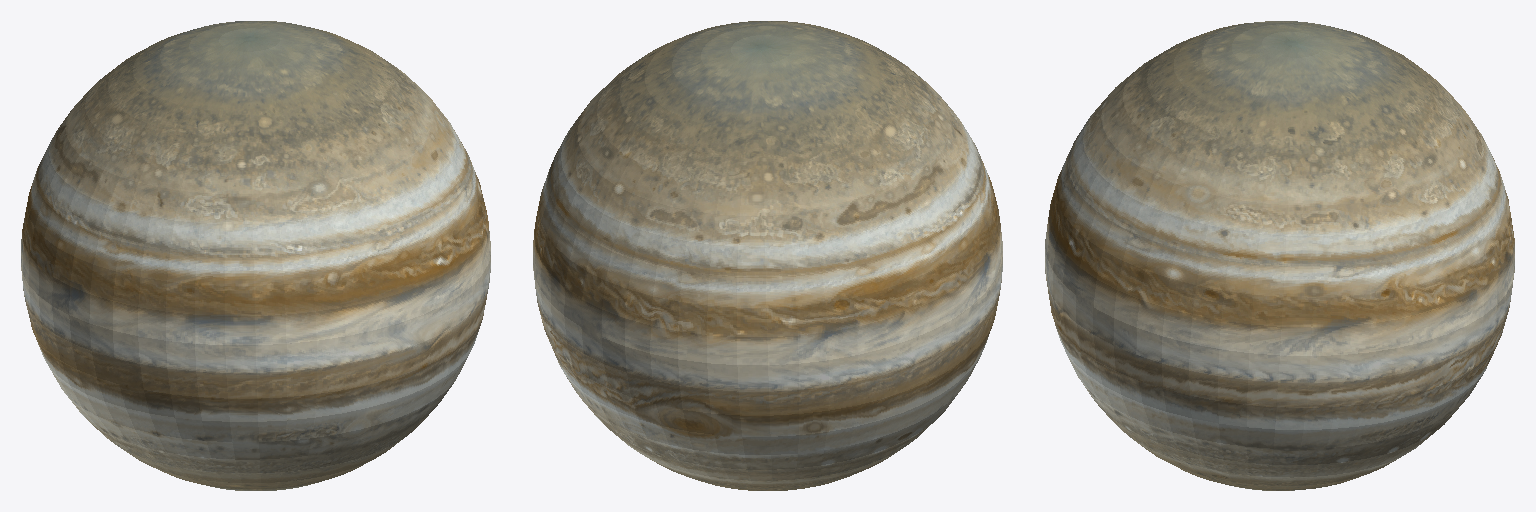
3 renders of one model, left to right at view 1: azimuth 30°, elevation 25°; view 2: azimuth 150°, elevation 25°; view 3: azimuth 270°, elevation 25°, orthographic.
Parts seen in each view (by area): view 1: Jupiter_ID156; view 2: Jupiter_ID156; view 3: Jupiter_ID156.
Boxes of the visible parts, x1=… form: Jupiter_ID156: x1=21, y1=21, x2=490, y2=490; Jupiter_ID156: x1=533, y1=21, x2=1002, y2=490; Jupiter_ID156: x1=1045, y1=21, x2=1514, y2=490.
Bounding box in the file's own units: 13.98 × 13.96 × 13.96.
Materials: 1 (1 with a texture image).